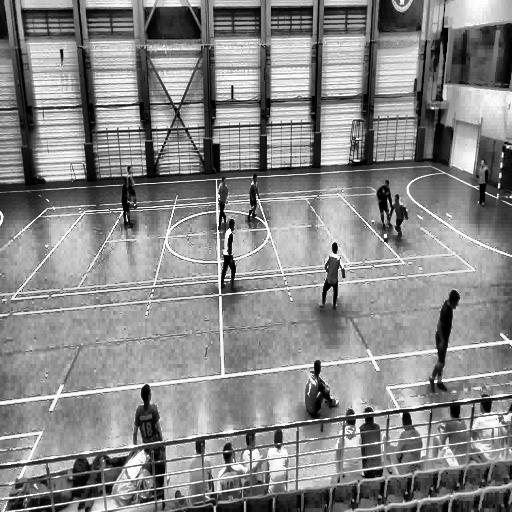ball: (383, 233, 389, 242)
player: (430, 289, 460, 389), (134, 384, 164, 476), (305, 358, 339, 432), (320, 240, 346, 313), (219, 218, 237, 292), (375, 177, 394, 230), (390, 194, 408, 241), (246, 171, 260, 222), (216, 175, 228, 231), (476, 157, 488, 207), (121, 171, 132, 225), (125, 166, 137, 210)
